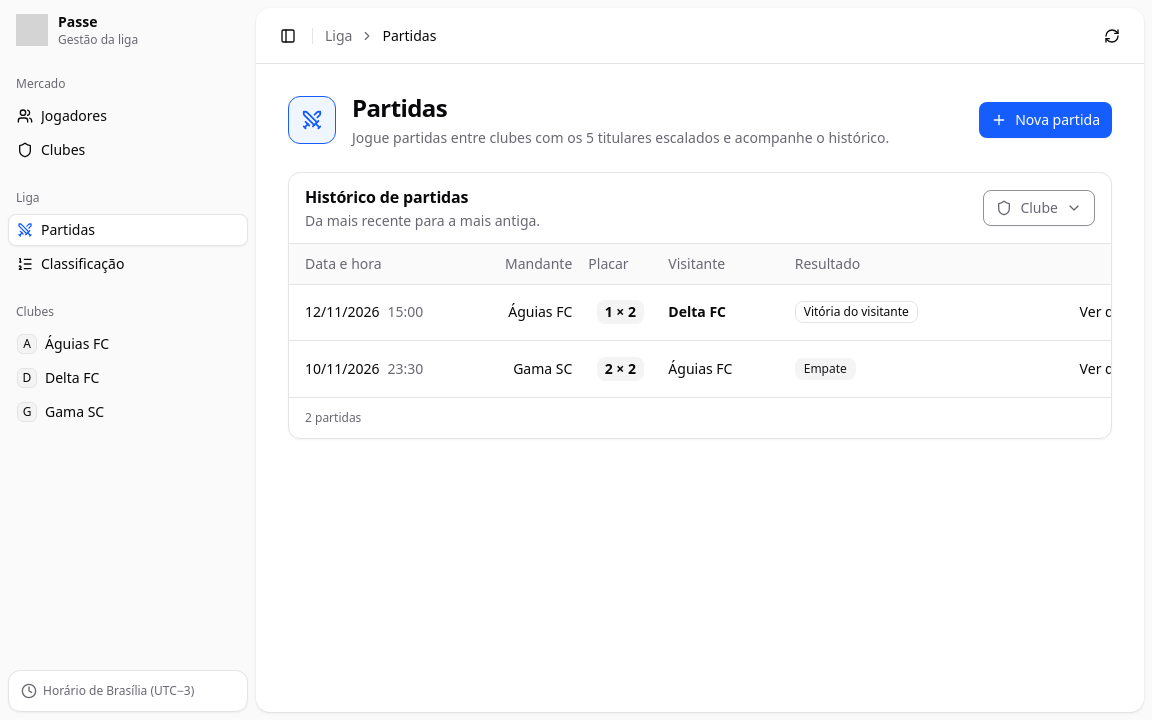
Scenario: Partidas (F13, F14) › escalação incompleta: envia e mostra o message do 409
Click the button "Nova partida".
click(1046, 120)  # box [979, 102, 1112, 138]
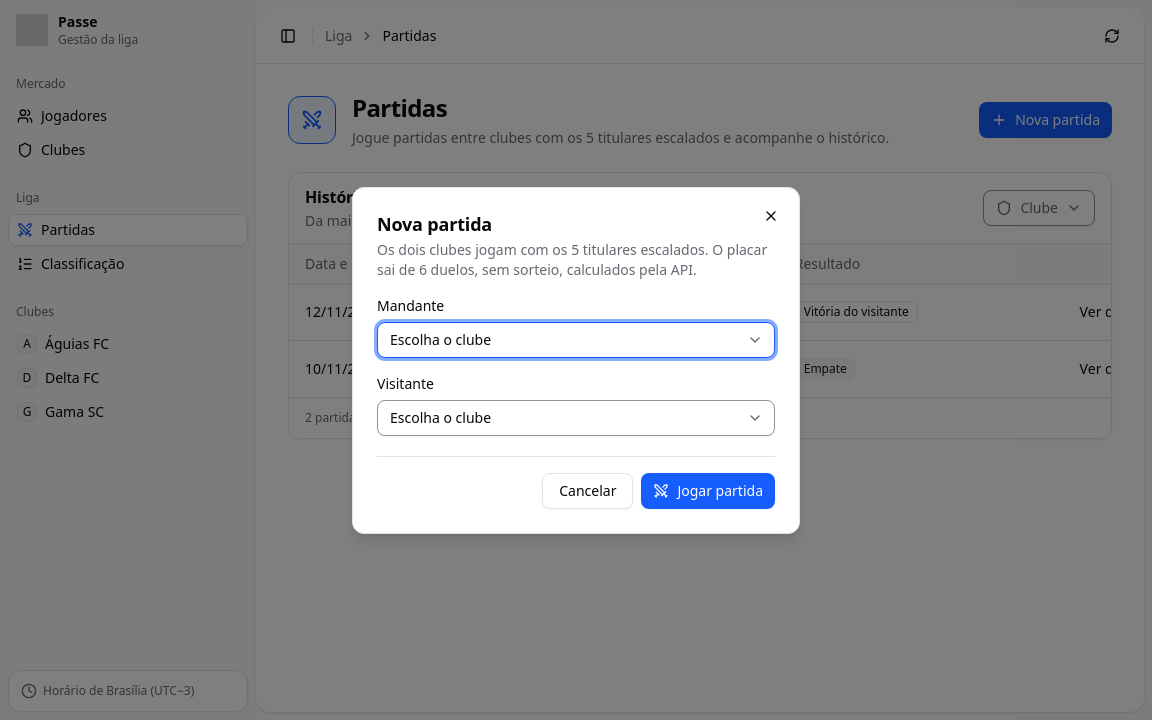
Select "Gama SC (GAM)" in the dropdown labelled "Mandante" at (576, 340), box [377, 322, 775, 358]
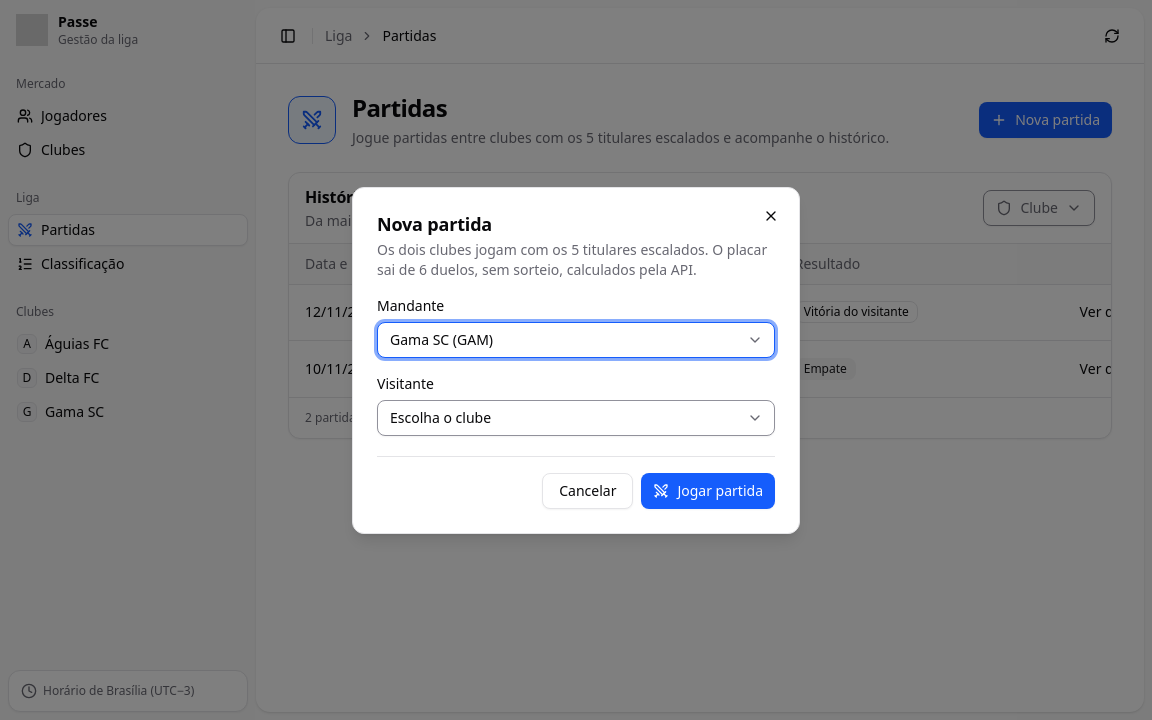
Select "Águias FC (AGU)" in the dropdown labelled "Visitante" at (576, 418), box [377, 400, 775, 436]
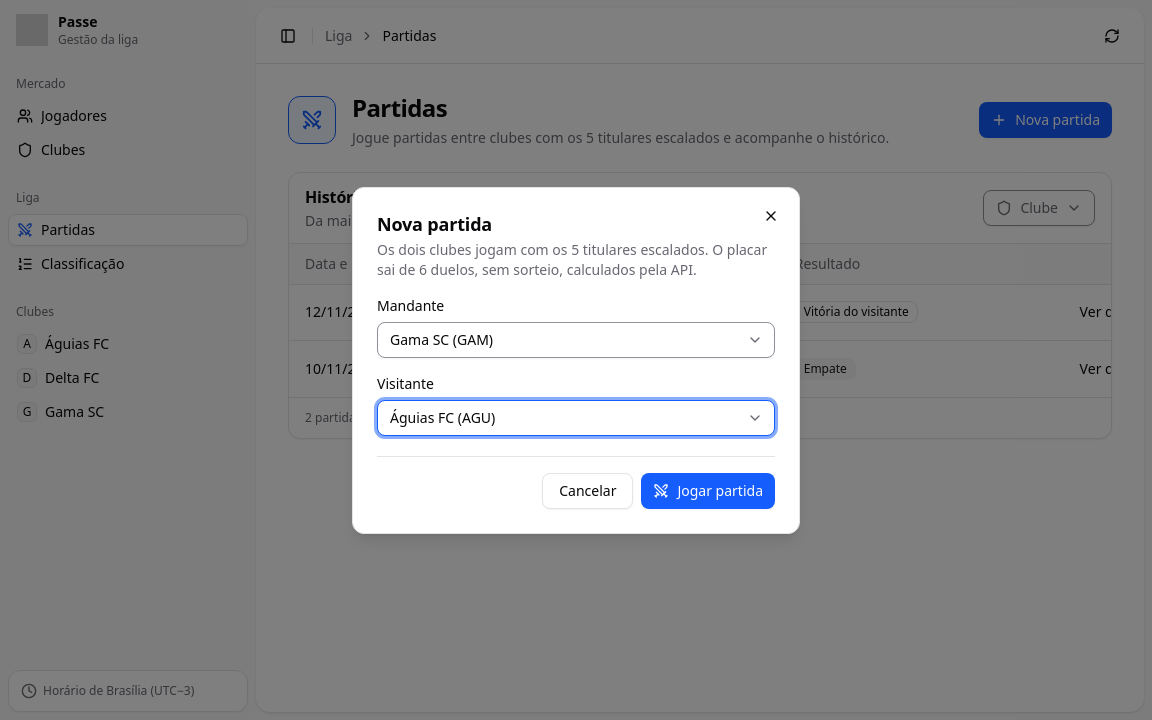
Click the button "Jogar partida".
click(708, 490)  # box [641, 472, 775, 508]
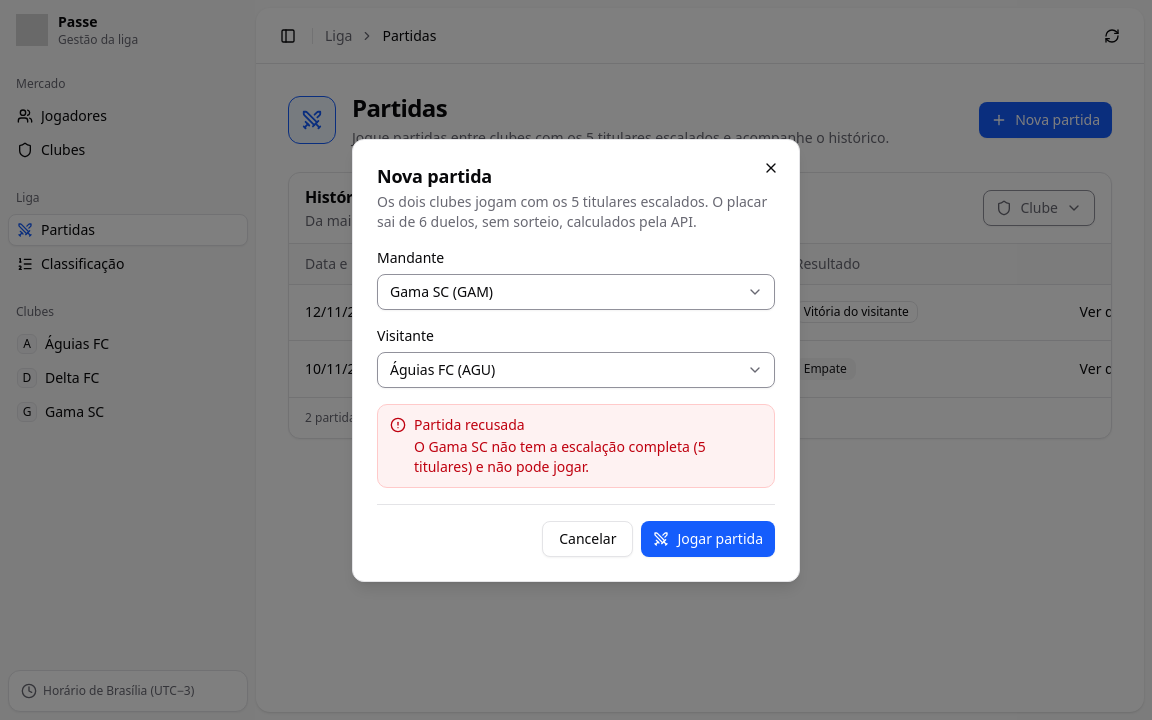
Check: the message shows "Partida recusada", box [414, 414, 525, 434]
Check: the message shows "O Gama SC não tem a escalação completa", box [414, 436, 706, 476]
